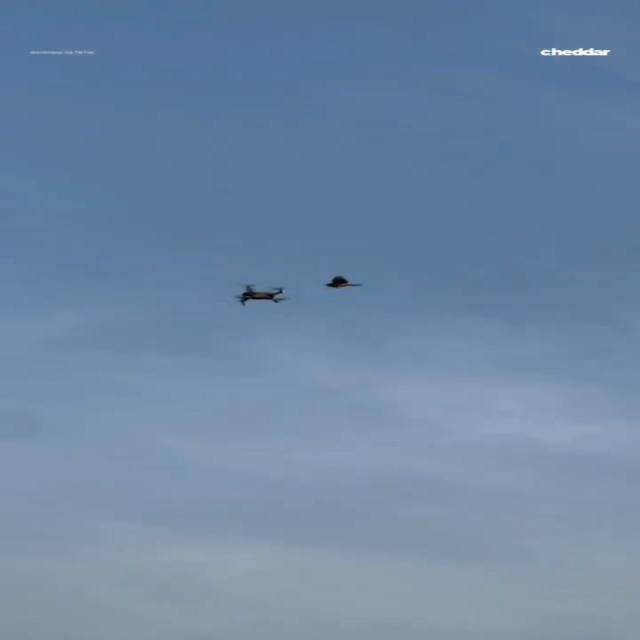bird: (324, 275, 362, 289)
drone: (234, 284, 286, 306)
